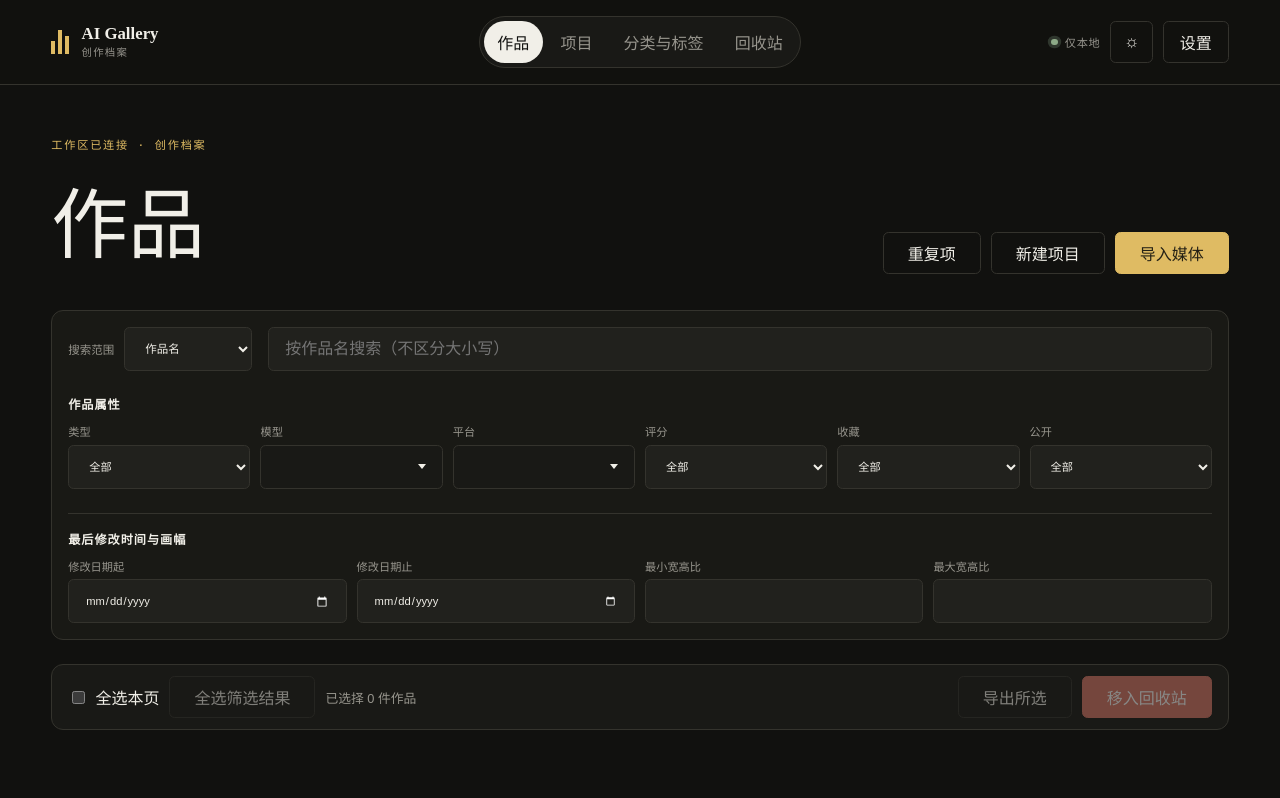
it: M2 作品库页面 › 模型和平台筛选保持空白，点击后以最多五项的浮层展示
This screenshot has width=1280, height=798.
expect the option "模型 8" is not shown: met
Click the button named "模型": (352, 467) [260,445,443,489]
(page scrolled)
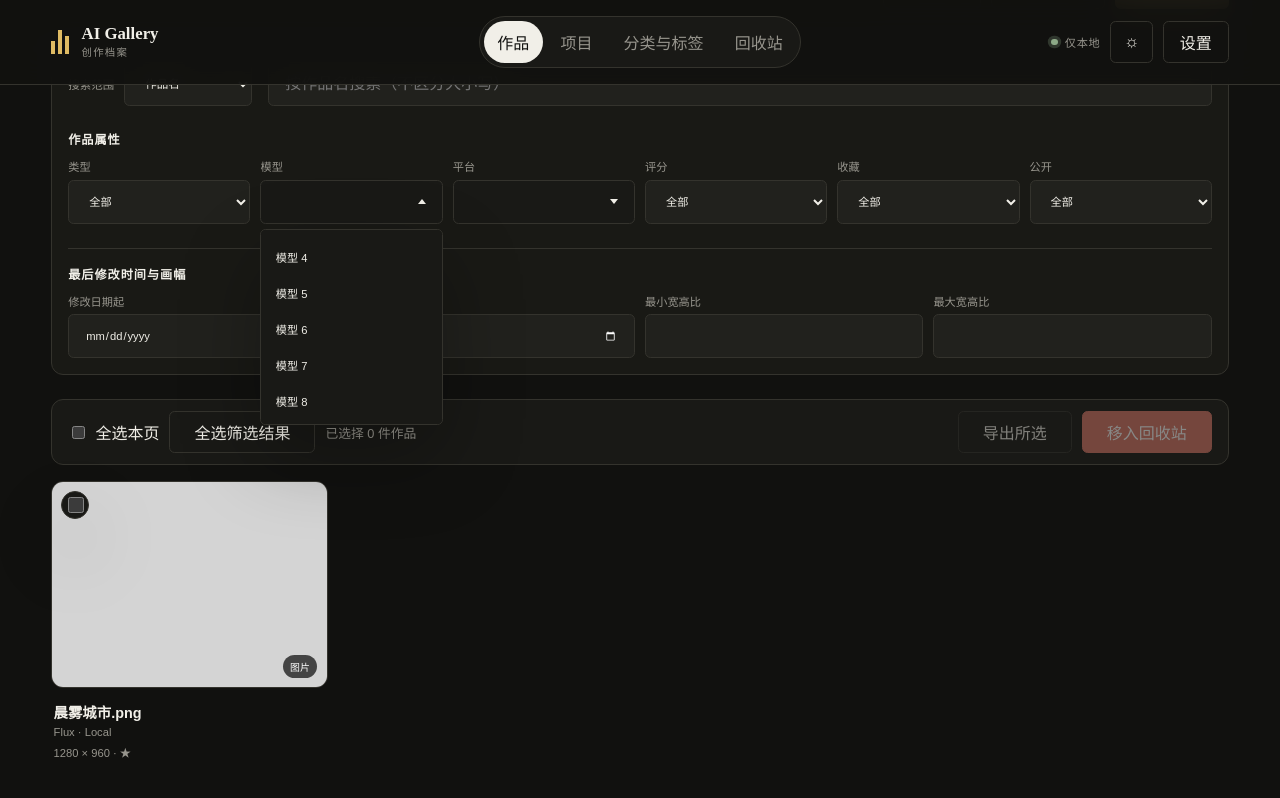
expect the list "模型" is shown: met, box [260,229,443,425]
expect the option "模型 8" is shown: met, box [266,383,437,419]
